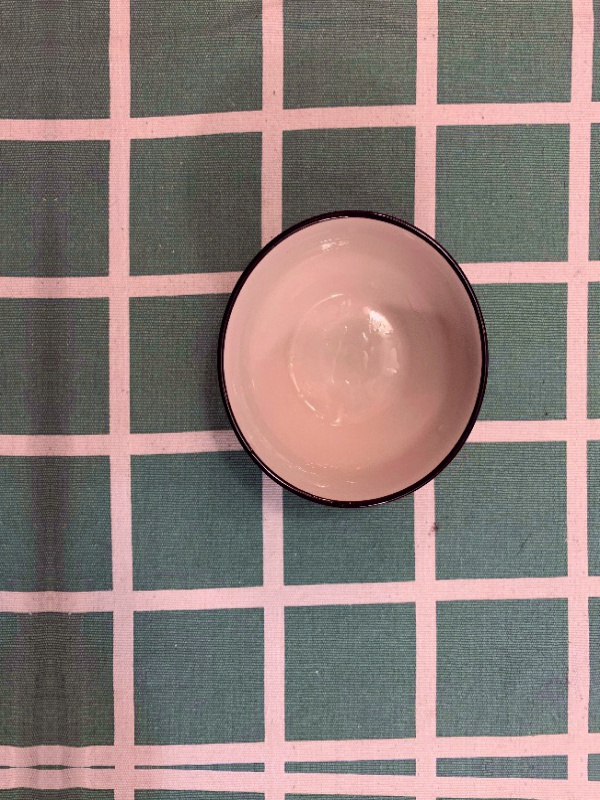bowl_small: (208, 202, 494, 518)
